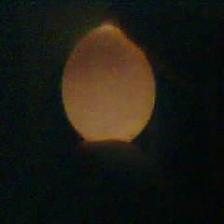infertile: (61, 22, 157, 150)
